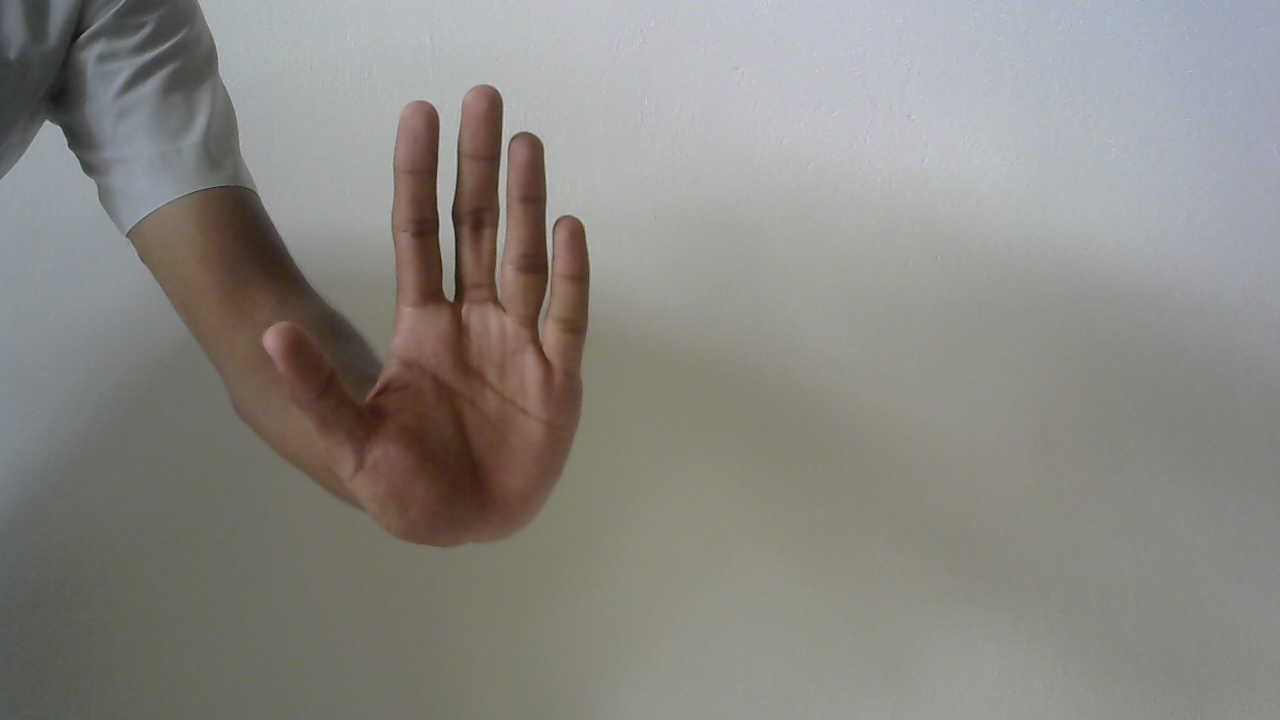hello: (252, 76, 600, 565)
